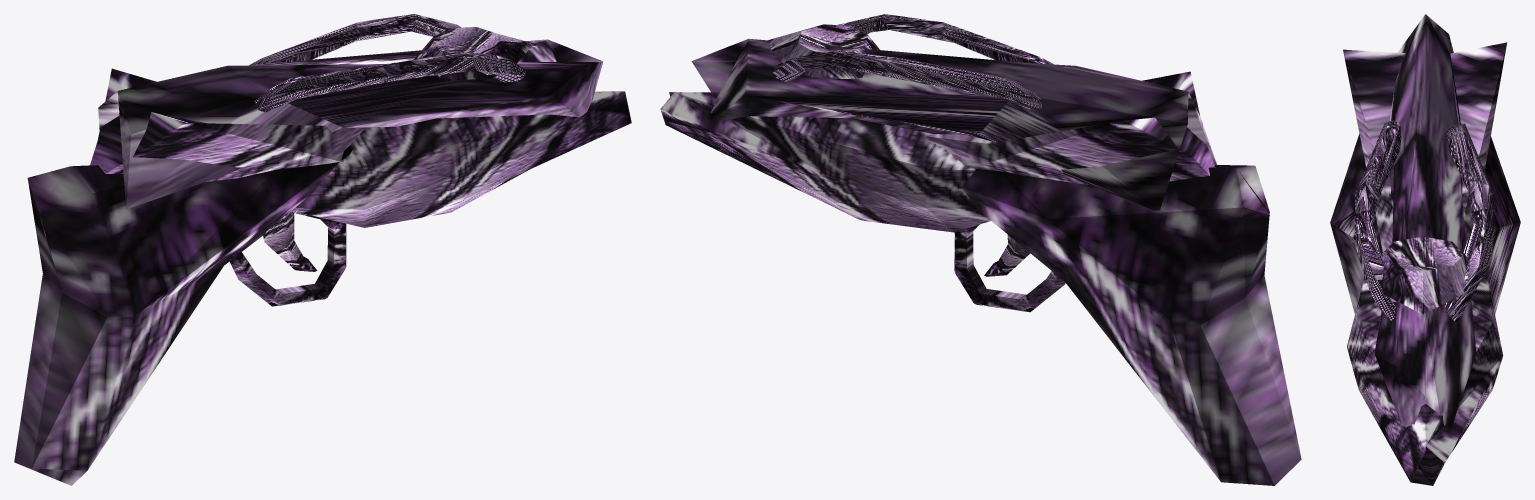
File: icon1.ico.obj
The picture shows the model from 3 angles, left to right: view 1: azimuth 30°, elevation 25°; view 2: azimuth 150°, elevation 25°; view 3: azimuth 270°, elevation 25°; orthographic projection. The views are drawn at different scales.
Bounding box in the file's own units: 4.44 × 2.61 × 1.03.
Materials: 1 (1 with a texture image).
